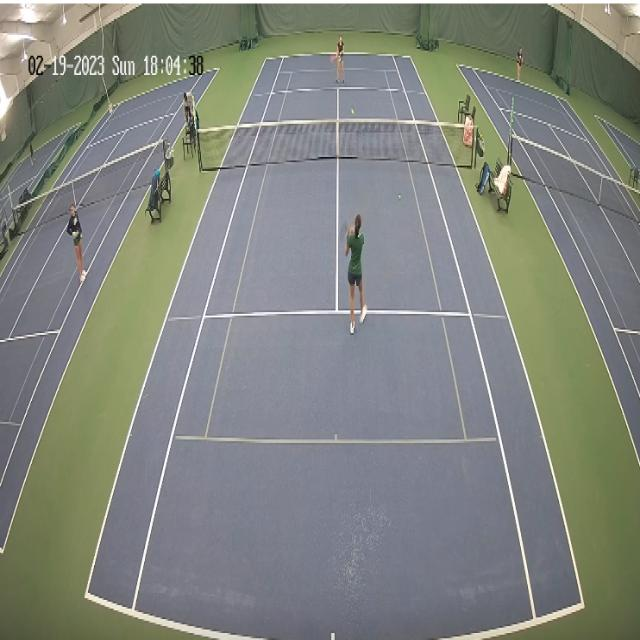ball: (350, 106, 355, 115), (398, 194, 402, 202), (74, 232, 76, 237)
